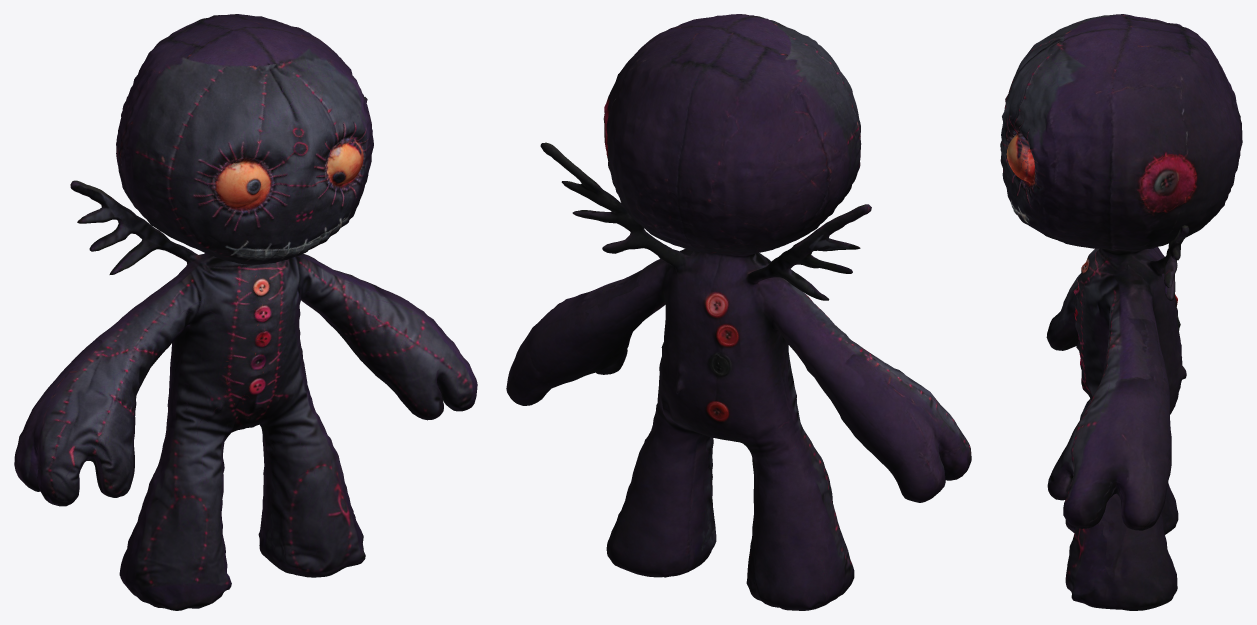
The model's file is Patchwork_Guardian_0223185440_texture.fbx.
The picture shows the model from 3 angles, left to right: view 1: azimuth 30°, elevation 25°; view 2: azimuth 150°, elevation 25°; view 3: azimuth 270°, elevation 25°; orthographic projection. The views are drawn at different scales.
Parts seen in each view (by area): view 1: Mesh_0; view 2: Mesh_0; view 3: Mesh_0.
Part boxes in pixels (<box>): Mesh_0: <box>14,14,477,610</box>; Mesh_0: <box>506,14,971,610</box>; Mesh_0: <box>1000,14,1242,610</box>.
Size of the model in its own units: 163 by 200 by 81.03.
Materials: 1 (1 with a texture image).
